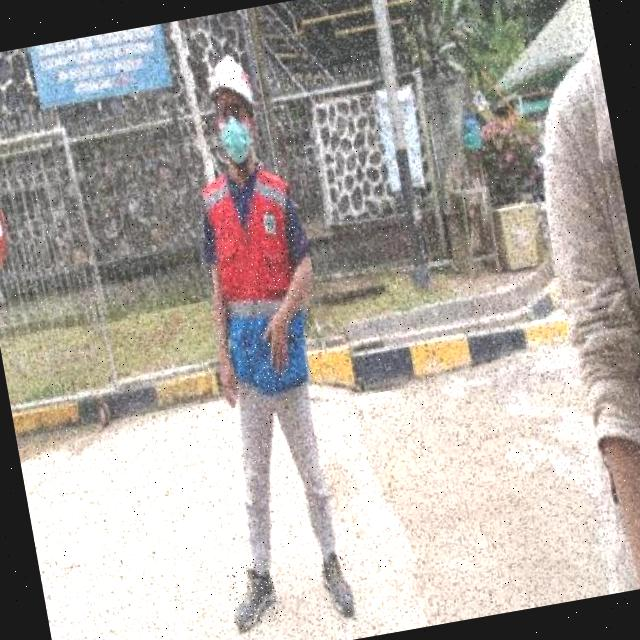boots: (223, 558, 282, 630), (313, 546, 357, 620)
helmet: (201, 42, 258, 120)
vest: (190, 158, 322, 402)
